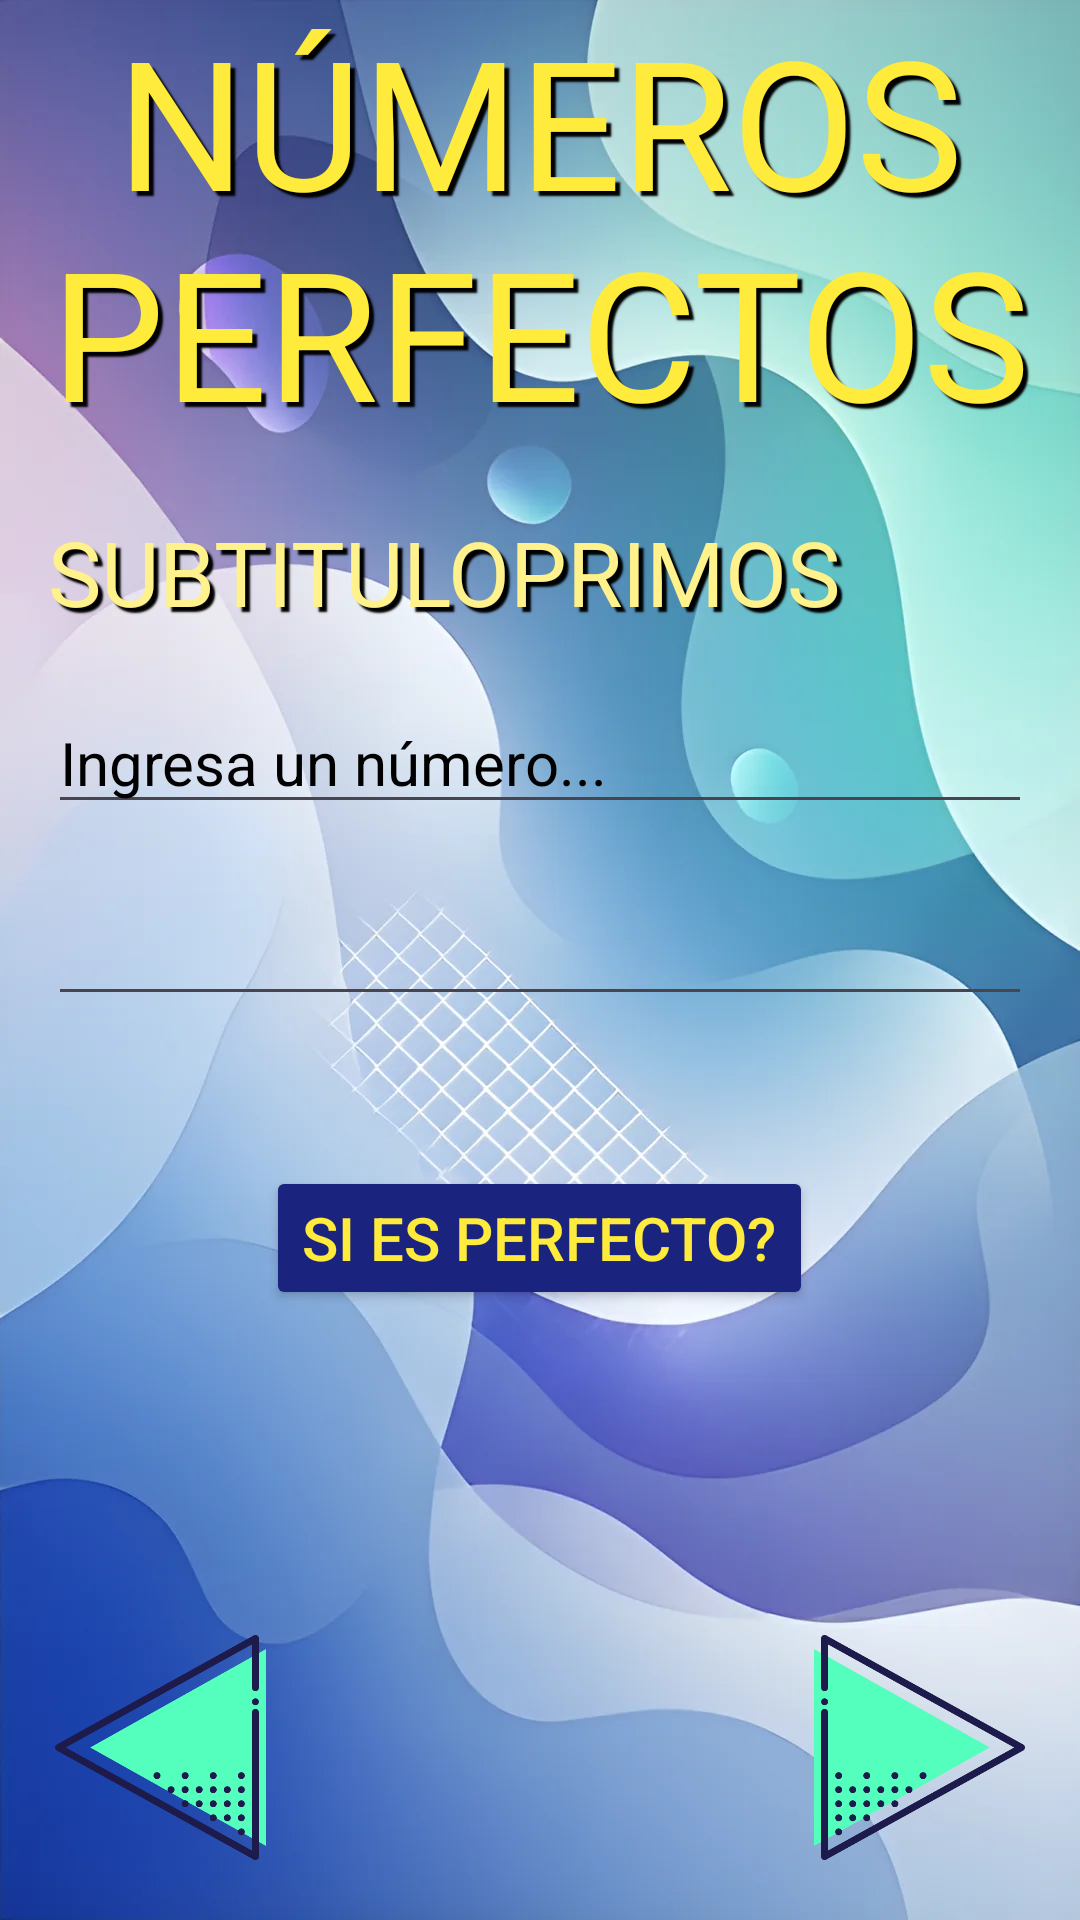

Point at icon controls on the screen. Image size 1080*1920, points as (x,y).
flechaderecha: (919,1747)
flechaizquierda: (164,1747)
